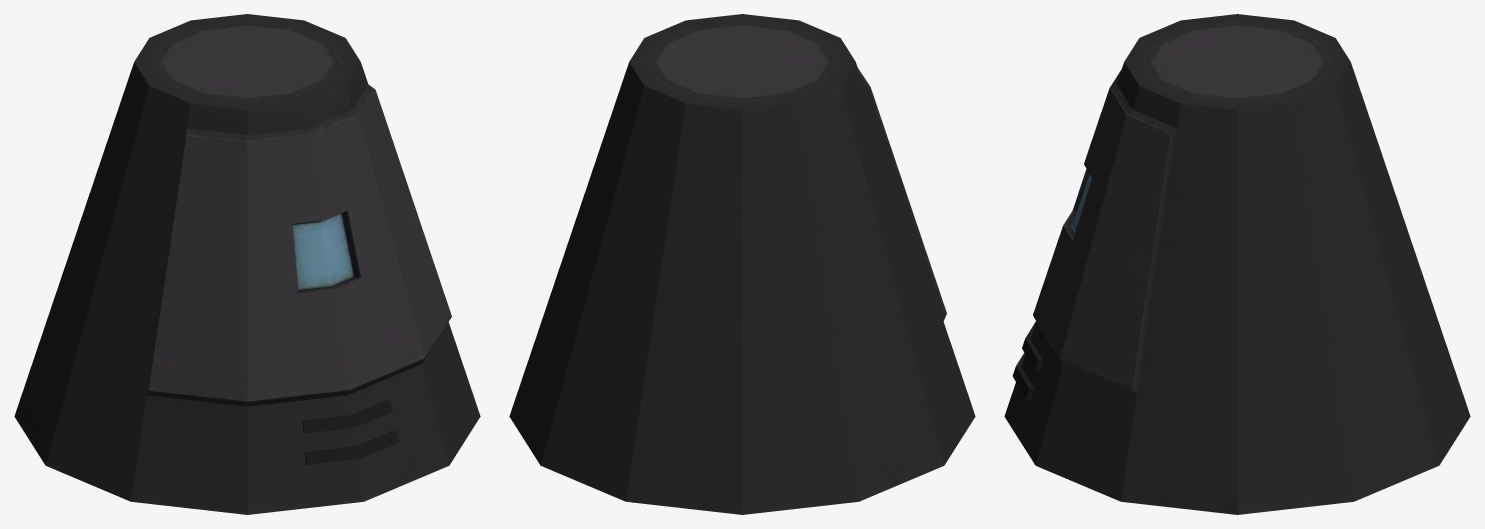
The model's file is 8oI7oWBA1V8.glb.
3 renders of one model, left to right at view 1: azimuth 30°, elevation 25°; view 2: azimuth 150°, elevation 25°; view 3: azimuth 270°, elevation 25°, orthographic.
Visible parts, largest first — view 1: Mk1CommandPod_mesh; view 2: Mk1CommandPod_mesh; view 3: Mk1CommandPod_mesh.
Part boxes in pixels (x1,y1,x2,y2): Mk1CommandPod_mesh: (14, 14, 480, 514); Mk1CommandPod_mesh: (509, 14, 975, 514); Mk1CommandPod_mesh: (1004, 14, 1470, 514).
Size of the model in its own units: 1.11 by 1 by 1.11.
1 material, 1 textured.
